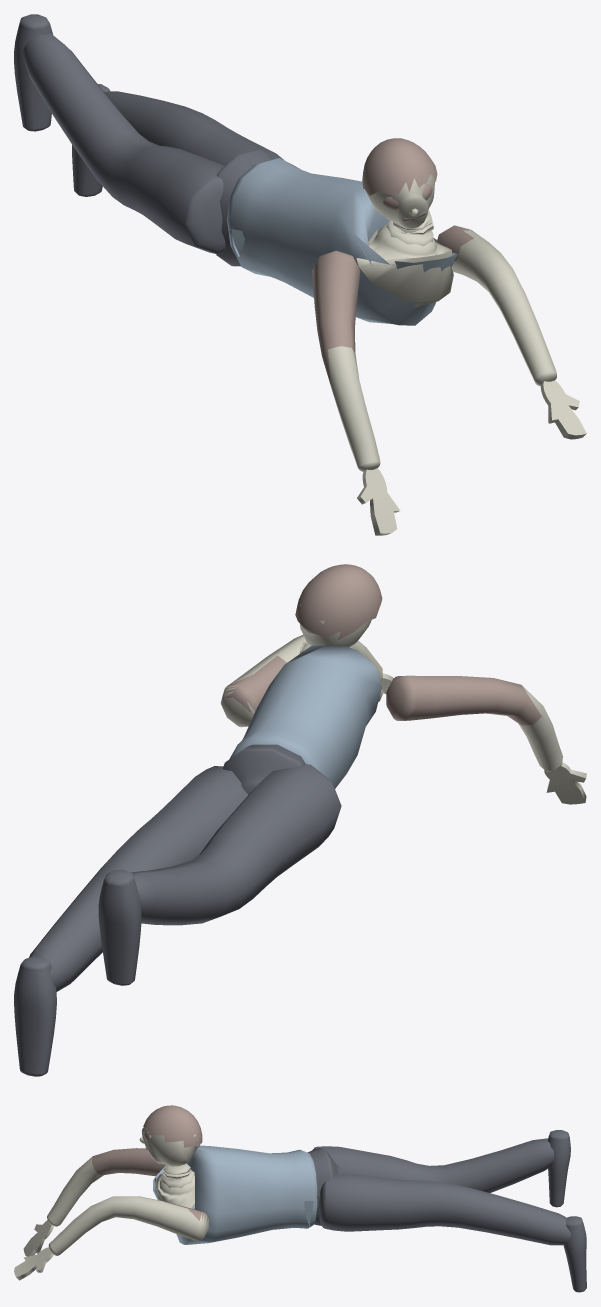
Rendered from undead-horde-and-infected-variants-fallen-corpse-dress-a85ed74e__12014.glb.
3 views of the same model, one above another, from view 1: azimuth 30°, elevation 25°; view 2: azimuth 150°, elevation 25°; view 3: azimuth 270°, elevation 25° (orthographic). The views are drawn at different scales.
Visible parts, largest first — view 1: fallen-corpse-dressing; view 2: fallen-corpse-dressing; view 3: fallen-corpse-dressing.
Boxes of the visible parts, <box> form: fallen-corpse-dressing: <box>14,14,586,535</box>; fallen-corpse-dressing: <box>14,564,586,1076</box>; fallen-corpse-dressing: <box>14,1105,586,1292</box>.
Size of the model in its own units: 0.6267 by 0.7056 by 1.94.
